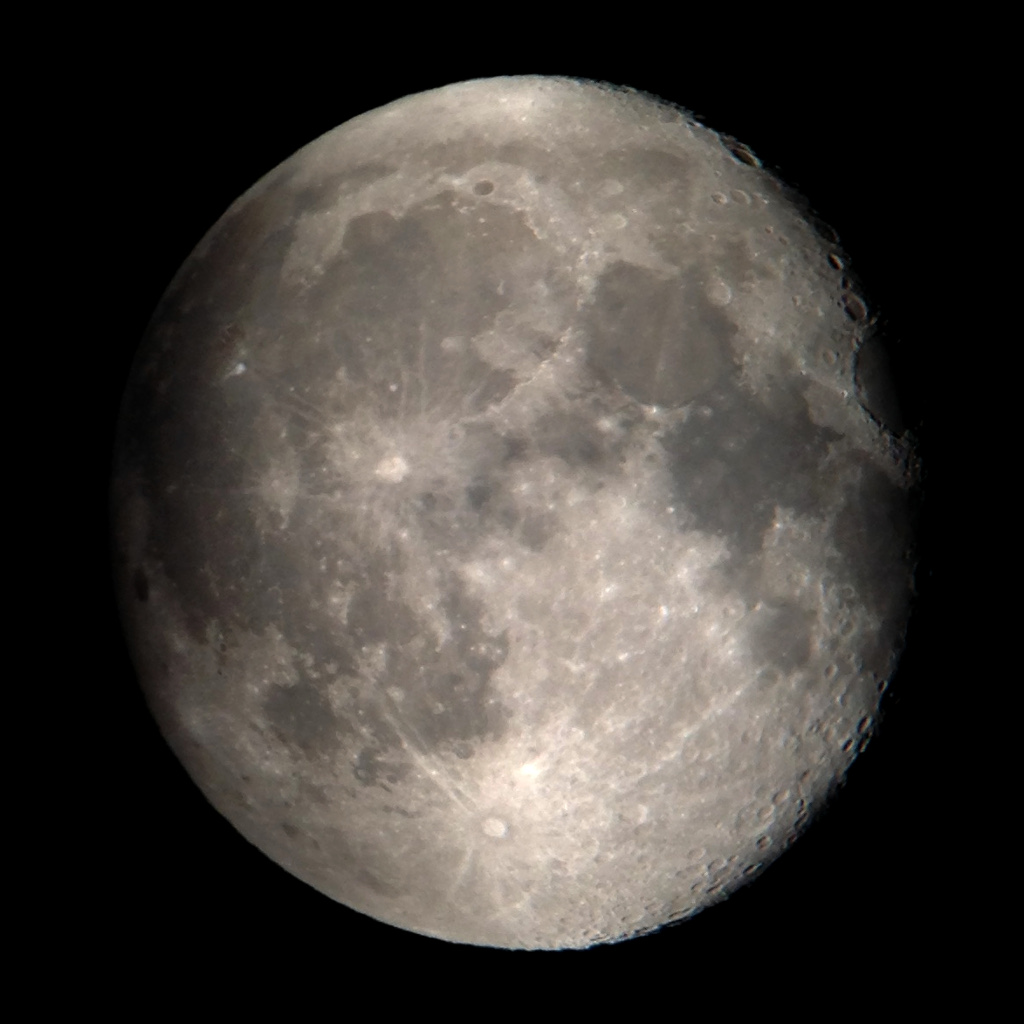crater: (416, 742, 575, 905), (341, 407, 482, 533), (226, 421, 319, 552), (121, 544, 181, 623), (690, 171, 755, 228), (447, 160, 514, 211), (211, 343, 277, 393), (610, 787, 661, 834), (370, 363, 420, 407), (591, 406, 631, 448), (814, 246, 852, 282), (645, 385, 673, 428), (841, 702, 875, 736), (814, 653, 843, 685)
